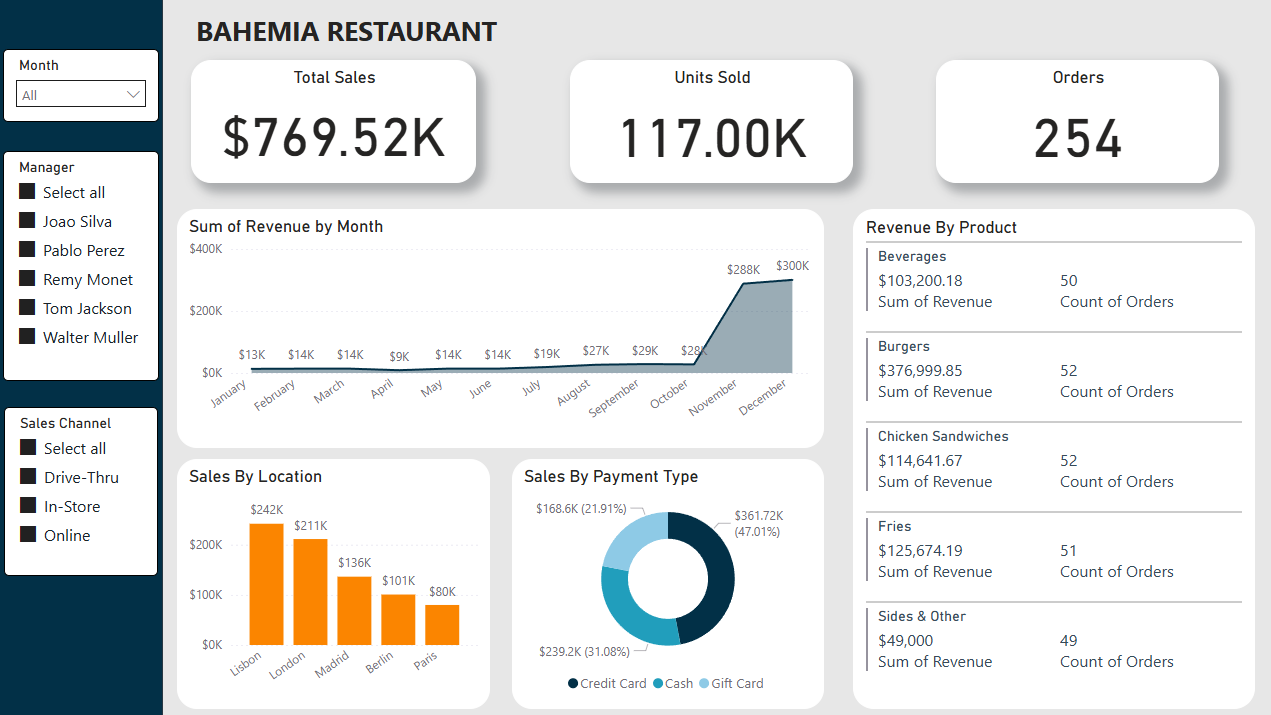

Layout of this report page (visuals, bound fields, positions):
{"tool":"powerbi","page":{"name":"Overview","canvas":[1280,720],"ordinal":0},"visuals":[{"type":"shape","box":[147.5,0,1132.2,720.5],"z":0},{"type":"shape","box":[0,0,165.3,720.5],"z":1000},{"type":"card","title":"Total Sales","fields":{"Values":["Cleaned-Sales-Data-Analysis.Revenue"]},"box":[193,62.4,285,122.7],"z":2000},{"type":"columnChart","title":"Sales By Location","fields":{"Category":["Cleaned-Sales-Data-Analysis.City"],"Y":["Cleaned-Sales-Data-Analysis.Revenue"]},"box":[179.1,461.2,312.7,249.4],"z":3000},{"type":"multiRowCard","title":"Revenue By Product","fields":{"Values":["Cleaned-Sales-Data-Analysis.ProductName","Cleaned-Sales-Data-Analysis.Revenue","Cleaned-Sales-Data-Analysis.ProductID"]},"box":[855.1,210.8,401.8,499.8],"z":4000},{"type":"card","title":"Units Sold","fields":{"Values":["Cleaned-Sales-Data-Analysis.Quantity"]},"box":[572,62.4,283.1,122.7],"z":5000},{"type":"card","title":"Orders","fields":{"Values":["Cleaned-Sales-Data-Analysis.ProductID"]},"box":[938.2,62.4,283.1,122.7],"z":6000},{"type":"donutChart","title":"Sales By Payment Type","fields":{"Category":["Cleaned-Sales-Data-Analysis.PaymentMethod"],"Y":["Cleaned-Sales-Data-Analysis.Revenue"]},"box":[513.6,461.2,312.7,249.4],"z":7000},{"type":"areaChart","fields":{"Y":["Cleaned-Sales-Data-Analysis.Revenue"],"Category":["Cleaned-Sales-Data-Analysis.OrderDate.Variation.Date Hierarchy.Month"]},"box":[179.1,210.8,647.3,239.5],"z":8000},{"type":"slicer","fields":{"Values":["Cleaned-Sales-Data-Analysis.OrderDate.Variation.Date Hierarchy.Month"]},"box":[4.9,51.5,156.4,72.2],"z":10000},{"type":"slicer","fields":{"Values":["Cleaned-Sales-Data-Analysis.ManagerName"]},"box":[4.9,153.4,156.4,229.6],"z":11000},{"type":"slicer","fields":{"Values":["Cleaned-Sales-Data-Analysis.PurchaseType"]},"box":[5.9,408.7,154.4,169.2],"z":12000},{"type":"textbox","box":[193,9,481,53],"z":12001}]}

Visuals, with their boxes in screenshot pixels (x1, y1, x2, y2), scaled from the page's 1280x720 canvas onto the 1271x715 screenshot:
shape: (x1=146, y1=0, x2=1270, y2=714)
shape: (x1=0, y1=0, x2=164, y2=714)
"Total Sales" card: (x1=192, y1=62, x2=475, y2=184)
"Sales By Location" columnChart: (x1=178, y1=458, x2=488, y2=706)
"Revenue By Product" multiRowCard: (x1=849, y1=209, x2=1248, y2=706)
"Units Sold" card: (x1=568, y1=62, x2=849, y2=184)
"Orders" card: (x1=932, y1=62, x2=1213, y2=184)
"Sales By Payment Type" donutChart: (x1=510, y1=458, x2=820, y2=706)
areaChart - Cleaned-Sales-Data-Analysis.Revenue x Cleaned-Sales-Data-Analysis.OrderDate.Variation.Date Hierarchy.Month: (x1=178, y1=209, x2=821, y2=447)
slicer - Cleaned-Sales-Data-Analysis.OrderDate.Variation.Date Hierarchy.Month: (x1=5, y1=51, x2=160, y2=123)
slicer - Cleaned-Sales-Data-Analysis.ManagerName: (x1=5, y1=152, x2=160, y2=380)
slicer - Cleaned-Sales-Data-Analysis.PurchaseType: (x1=6, y1=406, x2=159, y2=574)
textbox: (x1=192, y1=9, x2=669, y2=62)
